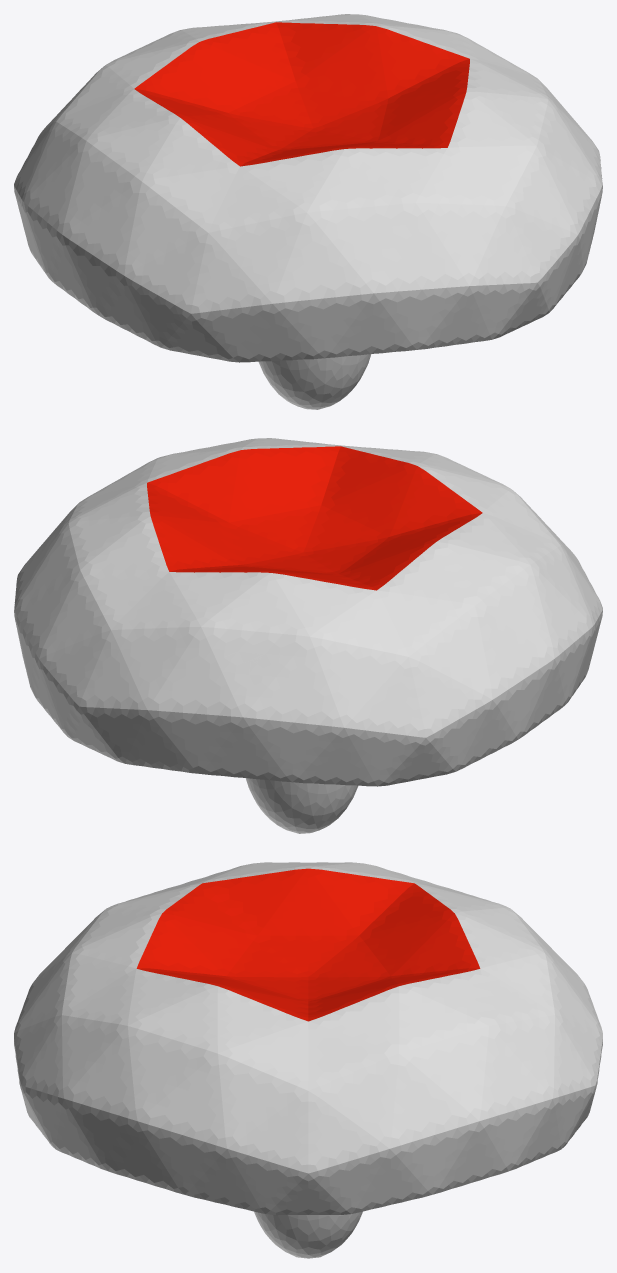
The model's file is SpawnSpotv5UV3pack.fbx.
3 renders of one model, top to bottom at view 1: azimuth 30°, elevation 25°; view 2: azimuth 150°, elevation 25°; view 3: azimuth 270°, elevation 25°, orthographic.
Parts seen in each view (by area): view 1: SpawSpot.003; view 2: SpawSpot.003; view 3: SpawSpot.003.
Boxes of the visible parts, bbox=[...] form: SpawSpot.003: bbox=[14, 14, 602, 409]; SpawSpot.003: bbox=[14, 438, 602, 833]; SpawSpot.003: bbox=[14, 862, 602, 1258].
Size of the model in its own units: 10.31 by 6.18 by 10.25.
